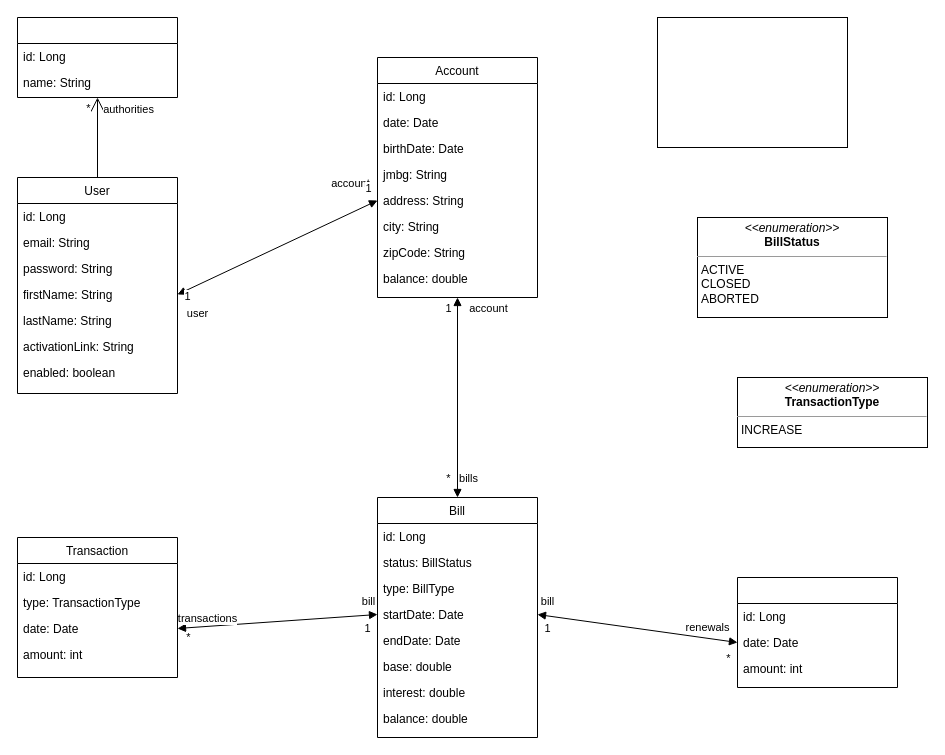
This 945x755 diagram has some shape labels left out. Here are the shapes that lost their labels. From the top down, the box of each, then its label:
(16, 16, 178, 98): Authority
(656, 16, 848, 148): <<enumaration>> BillType RSD EUR USD CHF GBP
(736, 576, 898, 688): Renewal
